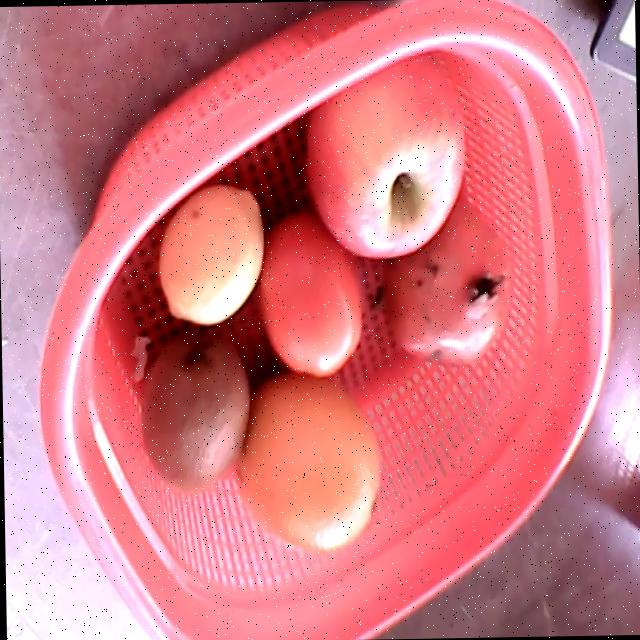apple: (303, 52, 465, 258)
kiwi: (140, 330, 248, 495)
lemon: (158, 183, 264, 324)
orange: (235, 372, 382, 551)
pomegranate: (383, 202, 514, 365)
tomato: (257, 213, 361, 377)
